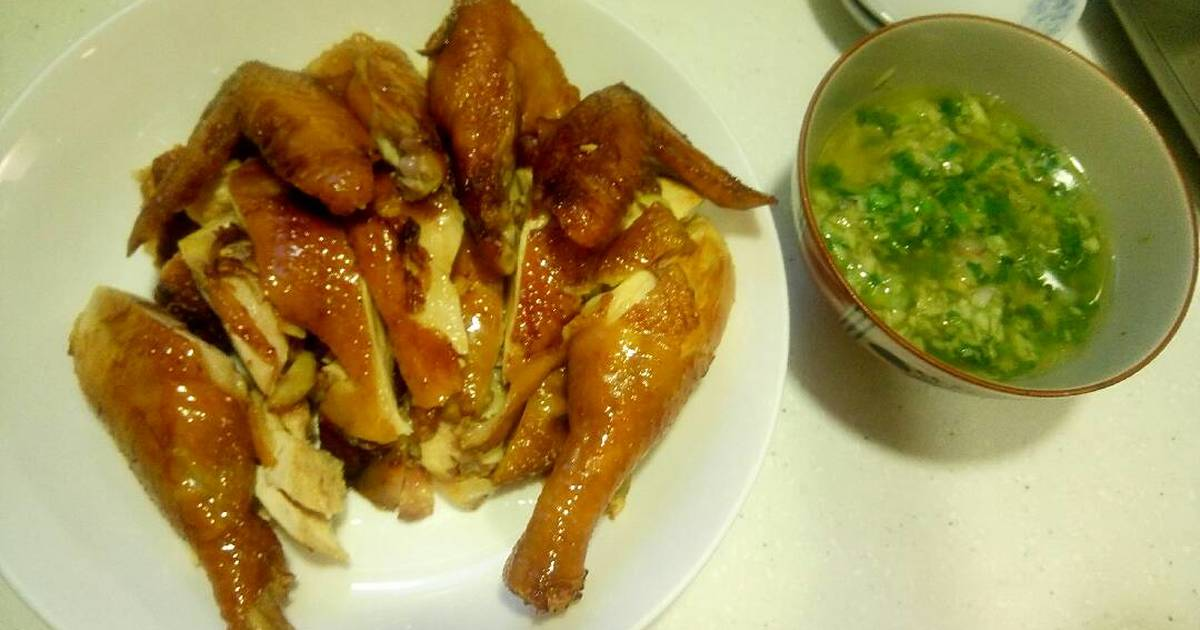Ayam: (201, 61, 660, 433), (492, 216, 741, 603), (68, 303, 309, 610)
